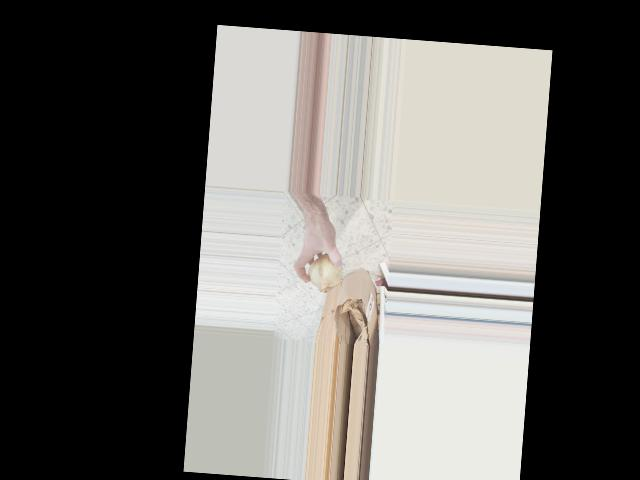onion: (306, 247, 344, 293)
